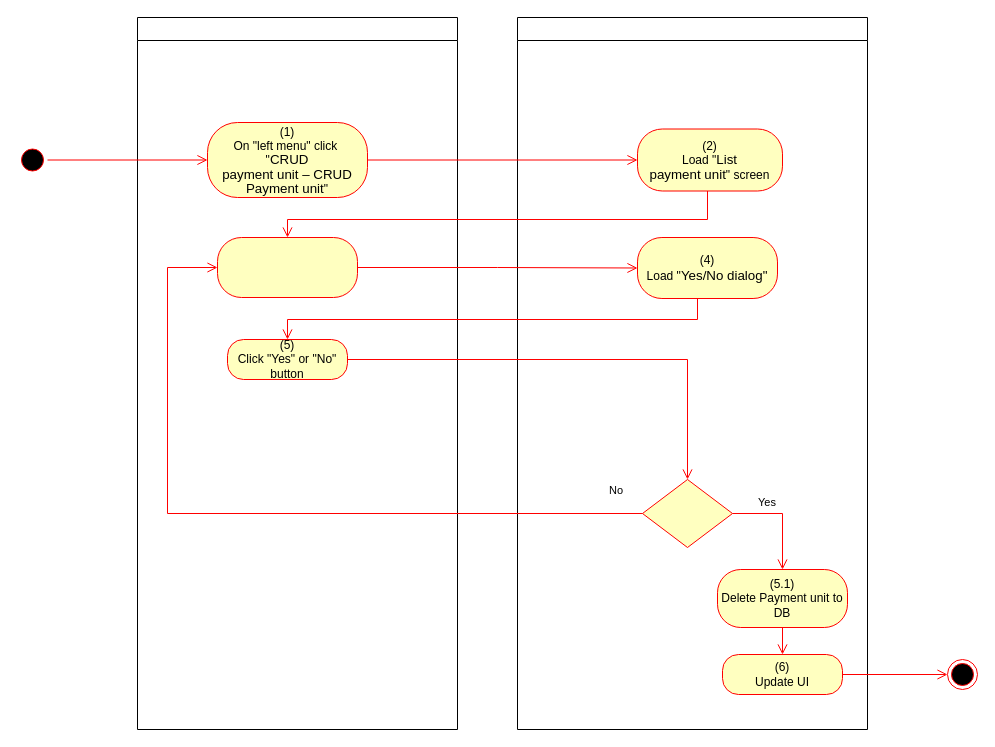
Image size: 995x747. Some labels were removed from this diagram. The box of each missing label's shape, as (x1, y1, x2, y2) in pixels:
(3) Click button "Xóa" trên 1 item đơn vị thanh toán bất kỳ: (216, 236, 358, 298)
System: (516, 16, 868, 730)
User: (136, 16, 458, 730)
